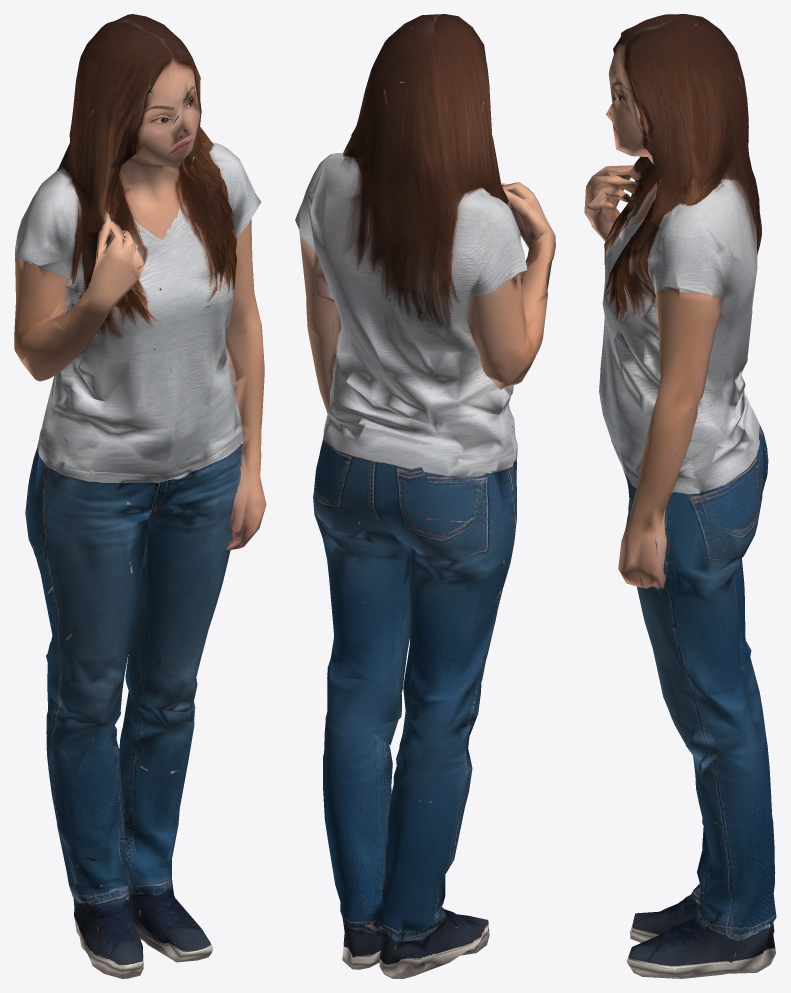
File: person5.glb
The picture shows the model from 3 angles, left to right: view 1: azimuth 30°, elevation 25°; view 2: azimuth 150°, elevation 25°; view 3: azimuth 270°, elevation 25°; orthographic projection.
Parts seen in each view (by area): view 1: Object_5; view 2: Object_5; view 3: Object_5.
Boxes of the visible parts, left/top/right/bottom form: Object_5: left=14, top=14, right=266, bottom=978; Object_5: left=295, top=14, right=555, bottom=978; Object_5: left=584, top=14, right=776, bottom=978.
Size of the model in its own units: 0.5009 by 1.9 by 0.3542.
1 material, 1 textured.
